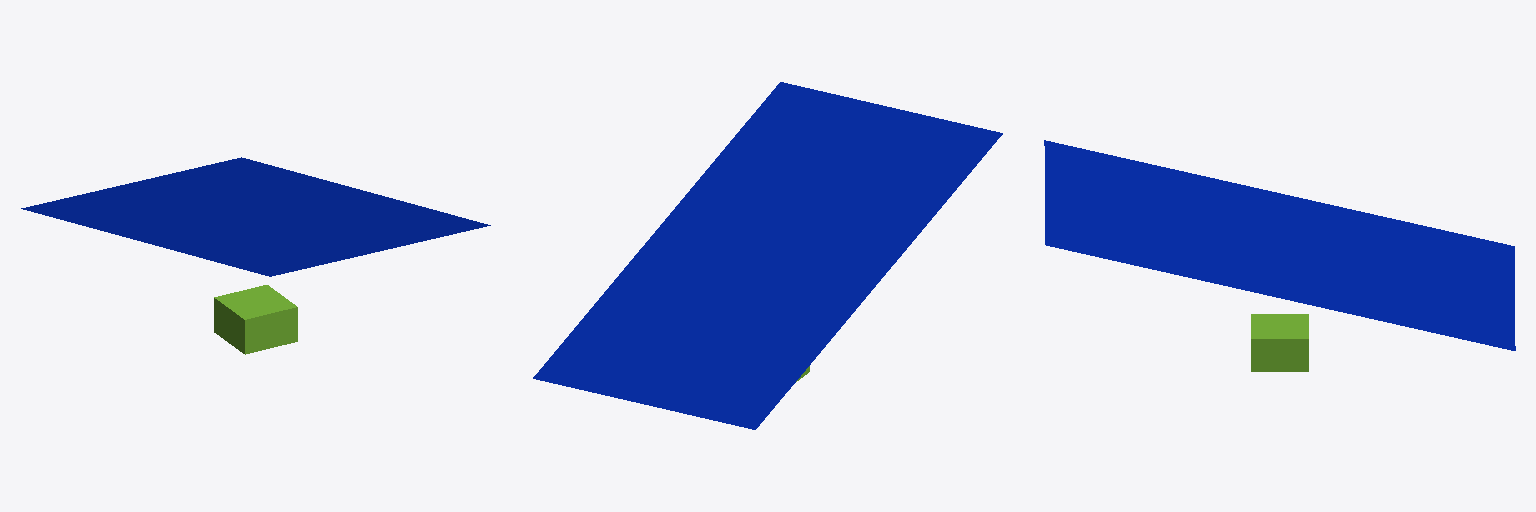
URDF robot description (small_box):
<?xml version="1.0" ?>
<robot name="small_box">

  <link name="floor">
    <visual>
      <!-- <origin xyz=".5 0 -0.05"/> -->
      <origin xyz="0 0 0.25865781307220465" rpy="-0.245984 0.0118291 0.00146228"/>
      <geometry>
        <box size=".5 1 0"/>
      </geometry>
      <material name="purple">
        <color rgba=" .04 .2 .7 .9"/>
      </material>
    </visual>
  </link>

  <link name="box">
  <inertial>
    <mass value=".165"/>
    <inertia ixx="10000." iyy="10000." izz="10000." ixy="0." ixz="0." iyz="0."/>
  </inertial>
  <visual>
    <origin xyz="0 0 .0375"/>
    <geometry>
      <box size=".12 .12 .075"/>
    </geometry>
    <material name="green">
      <color rgba=".5 0.75 .25 .8"/>
    </material>
  </visual>
  <visual>
    <origin xyz="0 0 0"/>
    <geometry>
      <sphere radius=".01"/>
    </geometry>
    <material name="yellow">
      <color rgba=".9 .9 .2 1."/>
    </material>
  </visual>
  <collision>
    <origin xyz="0 0 0"/>
    <geometry>
      <sphere radius="0"/>
    </geometry>
  </collision>
  </link>

  <joint name="floor_to_box" type="floating">
    <parent link="floor"/>
    <child link="box"/>
    <origin xyz="0 0 0"/>
  </joint>

</robot>

--- What the picture shows (computed from the rendered views, not written in the file) ---
The picture shows the robot from 3 angles, left to right: view 1: azimuth 30°, elevation 25°; view 2: azimuth 150°, elevation 25°; view 3: azimuth 270°, elevation 25°; orthographic projection.
Model small_box with 2 links and 1 joints (1 floating), rooted at floor, posed all joints at 0.
Links seen in each view (by area): view 1: floor, box; view 2: floor; view 3: floor, box.
Boxes of the visible links, x1=… form: floor: x1=21, y1=157, x2=490, y2=276; box: x1=214, y1=285, x2=297, y2=354; floor: x1=533, y1=82, x2=1002, y2=429; floor: x1=1044, y1=140, x2=1515, y2=350; box: x1=1251, y1=314, x2=1308, y2=371.
Bounding box of the posed robot: 0.5043 × 0.9706 × 0.3934 m (x, y, z).
Geometry: primitives only (box / cylinder / sphere), no mesh files.